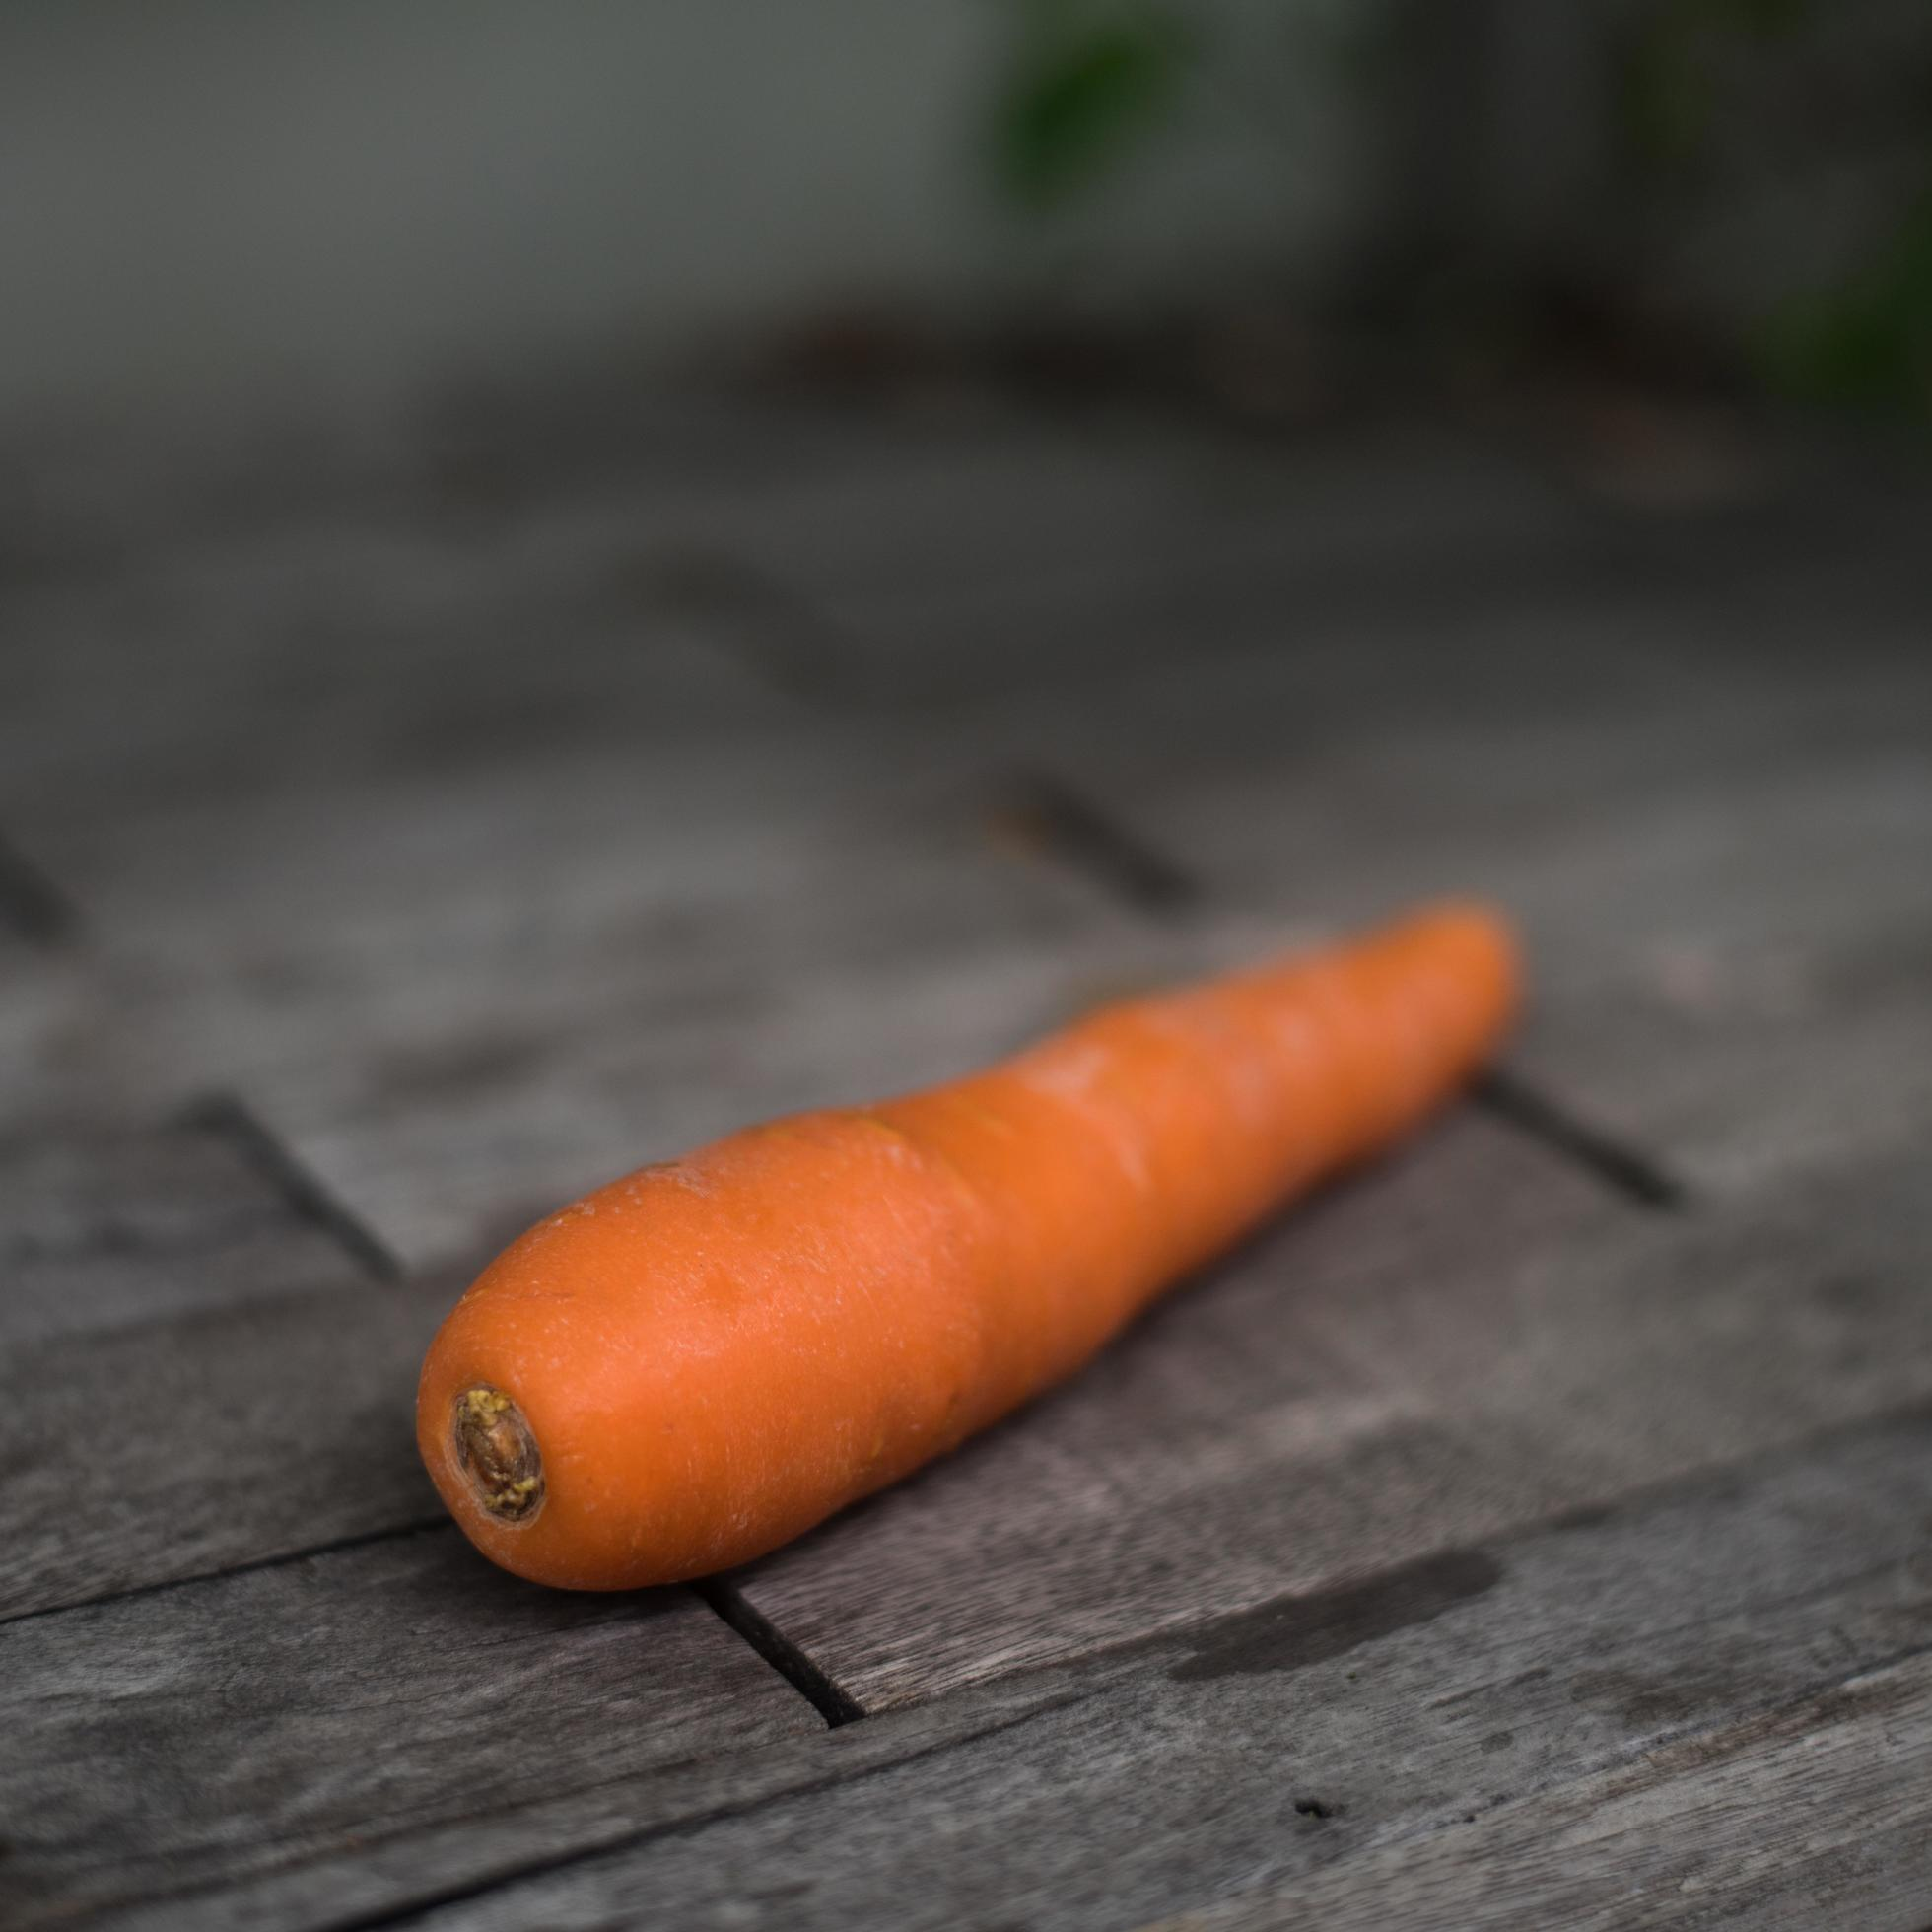carrot: (280, 878, 1695, 1660)
